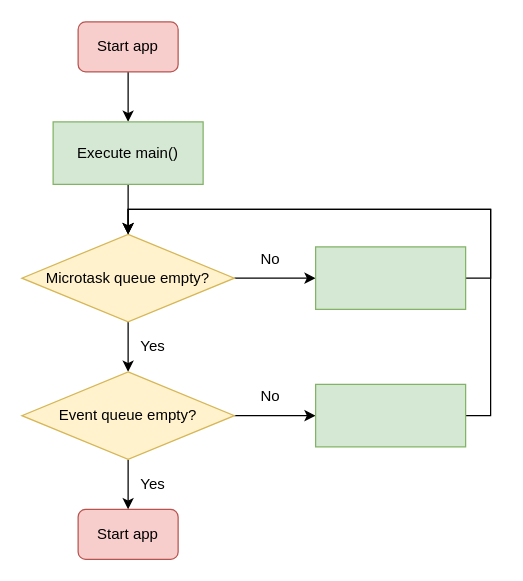
The diagram is 523 pixels wide and 581 high, and some of its shapes have lost their labels. The shapes that lost their labels are listed below. From the top down, each one's centre as x and y in pixels, then its label:
At point 390,277: "Run next microtask".
At point 390,415: "handle next event".
